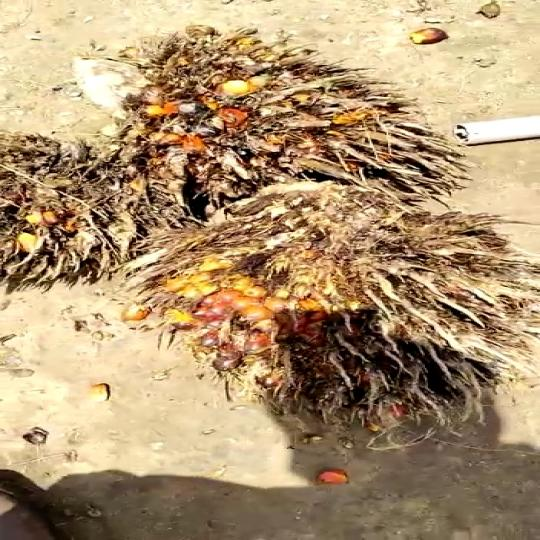terlalu masak: (107, 182, 540, 434), (106, 23, 487, 207)
